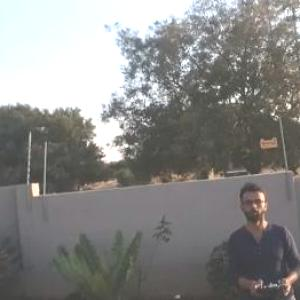follow: (222, 178, 299, 299)
